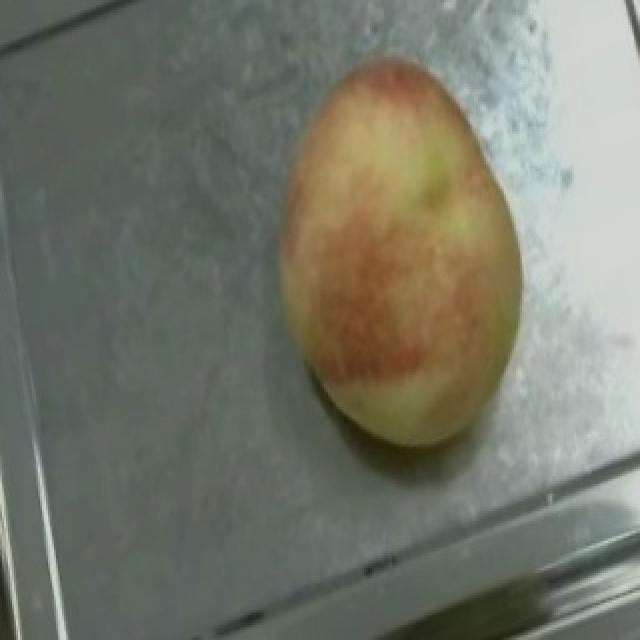Fruit: (236, 25, 558, 417)
